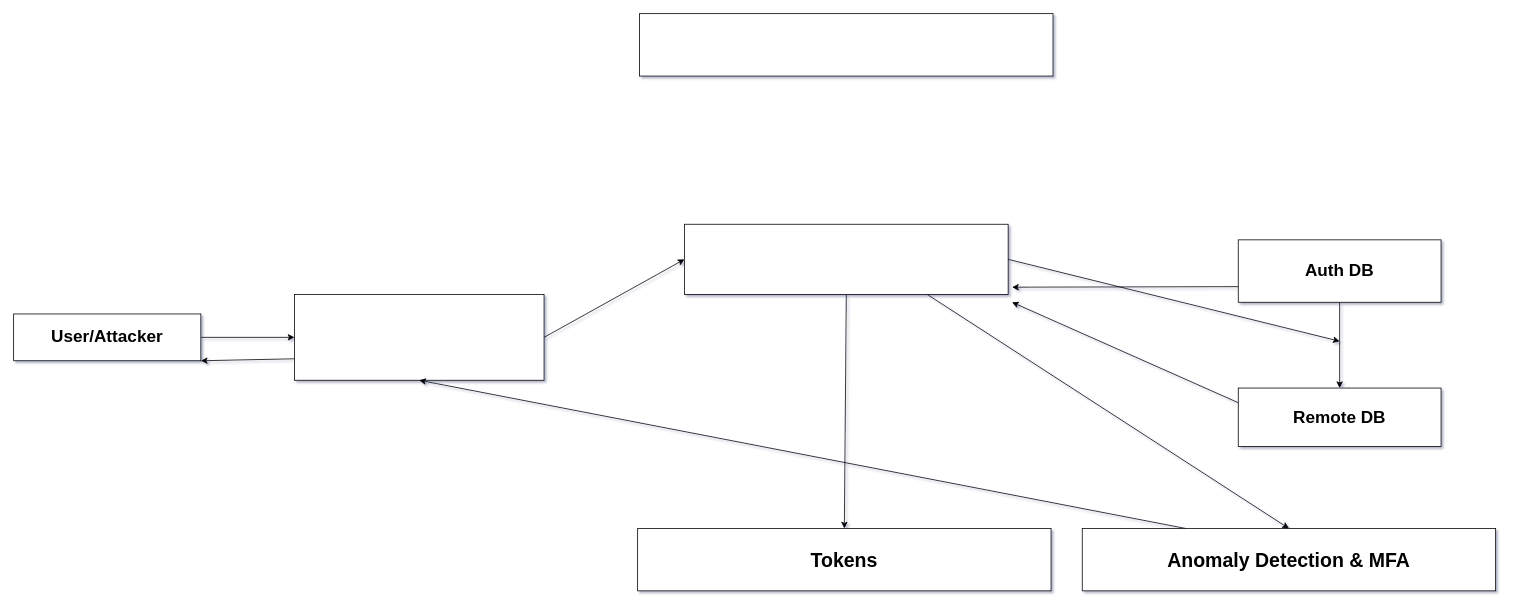
This 1514x609 diagram has some shape labels left out. Each missing label, with the centre of its shape:
"Anomaly Detection Flow" goes at (846,44).
"Auth Service" goes at (846,258).
"BFF (Backend for frontend)" goes at (419,337).
